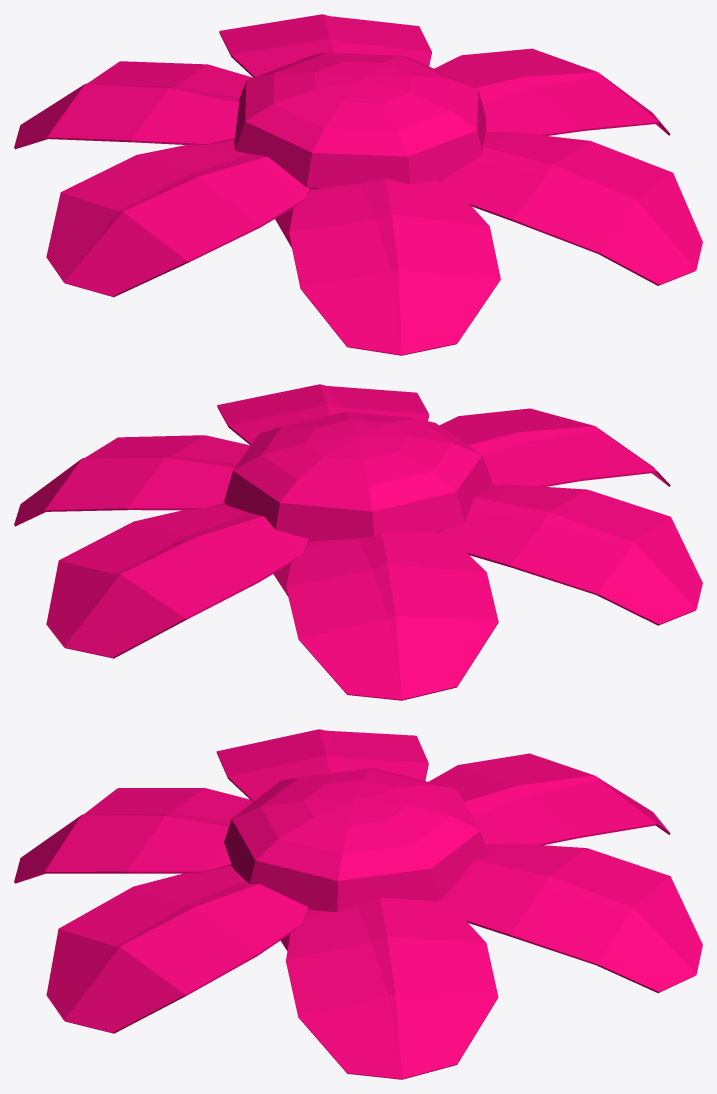
The model's file is SM_SS_Flower_3.fbx.
3 views of the same model, one above another, from view 1: azimuth 30°, elevation 25°; view 2: azimuth 150°, elevation 25°; view 3: azimuth 270°, elevation 25° (orthographic).
Visible parts, largest first — view 1: SM_SS_Flower_3; view 2: SM_SS_Flower_3; view 3: SM_SS_Flower_3.
Part boxes in pixels (x1,y1,x2,y2): SM_SS_Flower_3: (14, 14, 702, 355); SM_SS_Flower_3: (14, 384, 702, 700); SM_SS_Flower_3: (14, 729, 702, 1079).
Bounding box in the file's own units: 17 × 16.04 × 4.84.
